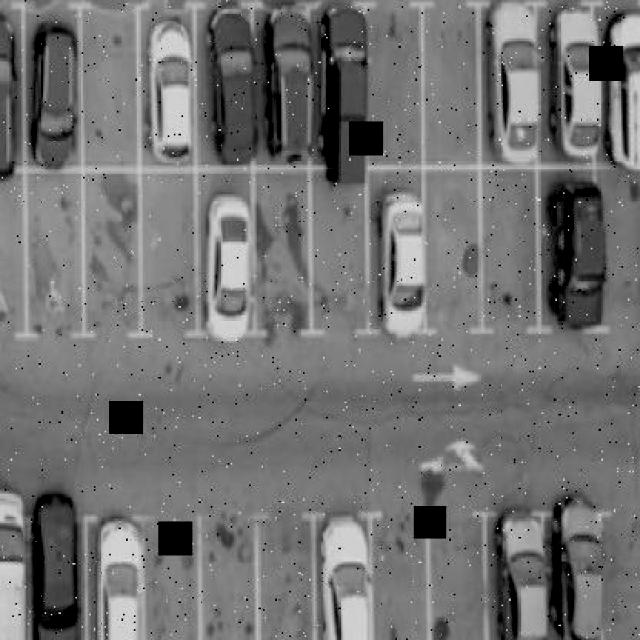car: (381, 169, 434, 331), (202, 5, 255, 166), (552, 166, 610, 308), (318, 2, 366, 172), (318, 504, 373, 640), (488, 0, 534, 162), (270, 0, 316, 157), (552, 18, 602, 157), (153, 7, 198, 155), (500, 507, 546, 640), (556, 523, 606, 640), (208, 202, 254, 328), (43, 498, 82, 640), (37, 18, 74, 160), (108, 520, 150, 640), (608, 36, 640, 149), (0, 499, 22, 638), (0, 31, 17, 151)
free: (369, 10, 418, 156), (486, 186, 534, 312), (92, 18, 131, 157), (91, 182, 135, 302), (264, 190, 302, 318), (428, 11, 464, 146), (322, 178, 360, 304), (440, 534, 483, 640), (442, 183, 473, 323), (33, 206, 72, 316), (370, 538, 412, 640), (208, 532, 247, 640), (149, 185, 183, 304), (270, 546, 306, 640), (614, 520, 640, 640), (614, 196, 640, 313), (162, 551, 192, 640), (0, 189, 15, 301)
